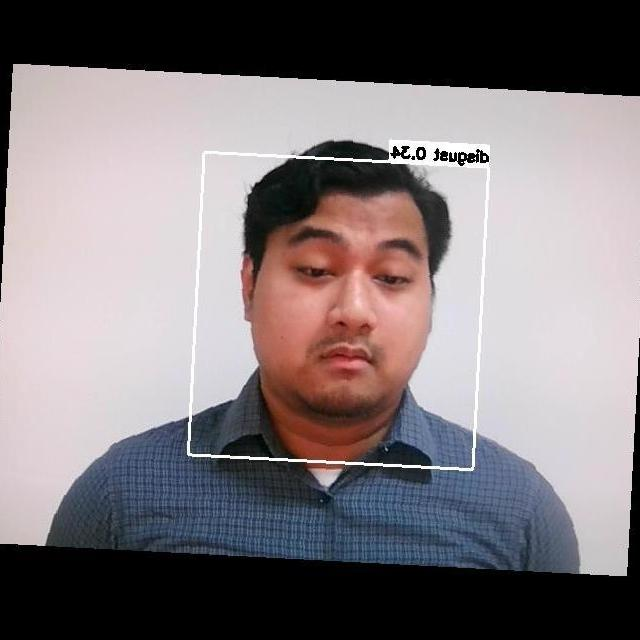Fear: (246, 203, 446, 406)
